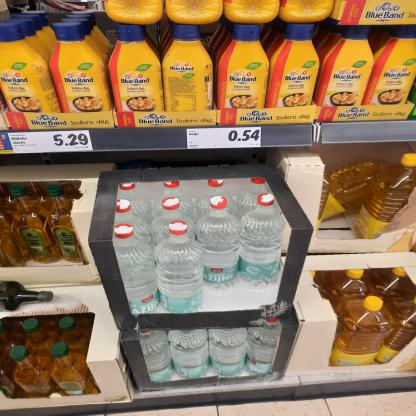prtg: (9, 131, 94, 155), (187, 128, 262, 150)
